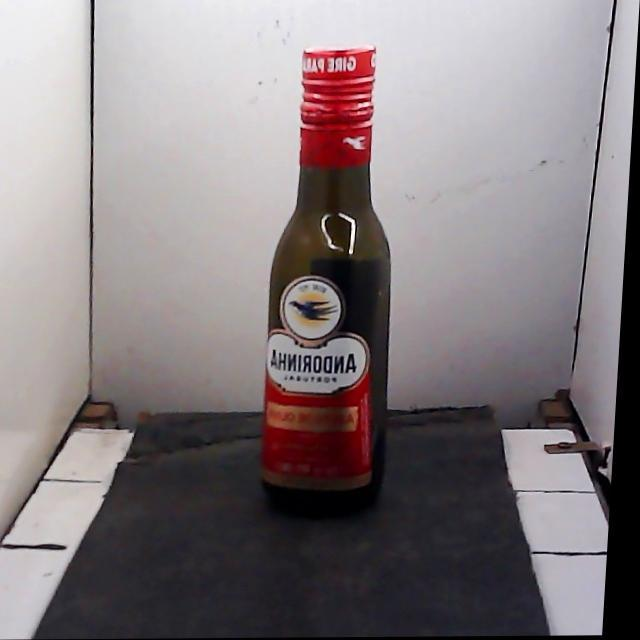vidro: (261, 46, 390, 509)
